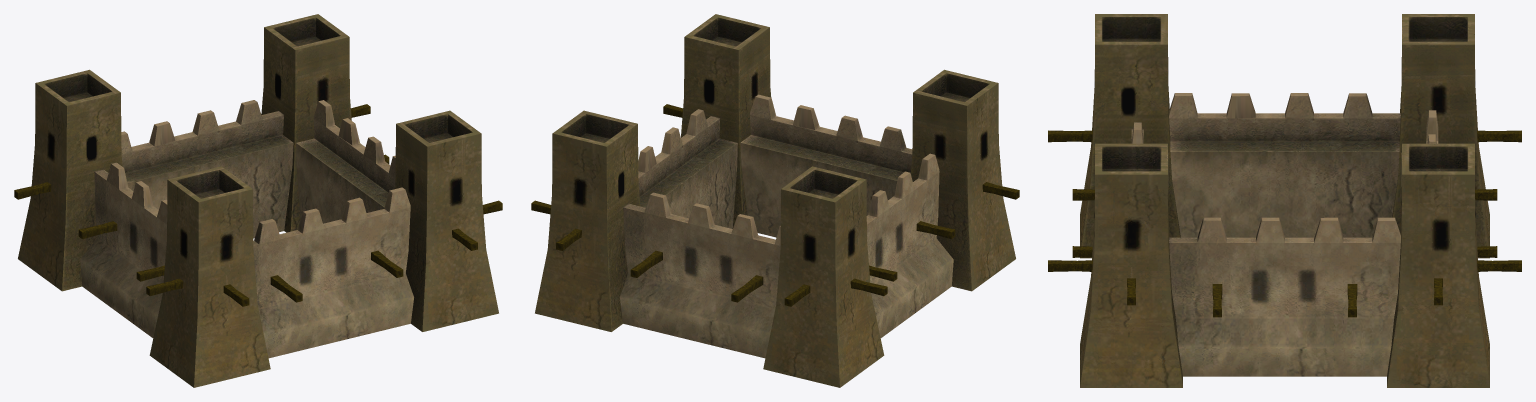
The model's file is SandCastle.gltf.
The picture shows the model from 3 angles, left to right: view 1: azimuth 30°, elevation 25°; view 2: azimuth 150°, elevation 25°; view 3: azimuth 270°, elevation 25°; orthographic projection. The views are drawn at different scales.
Visible parts, largest first — view 1: Fort; view 2: Fort; view 3: Fort.
Boxes of the visible parts, left/top/right/bottom form: Fort: left=14, top=14, right=502, bottom=387; Fort: left=531, top=14, right=1019, bottom=387; Fort: left=1048, top=14, right=1521, bottom=387.
Bounding box in the file's own units: 34.32 × 16.56 × 34.32.
1 material, 1 textured.
